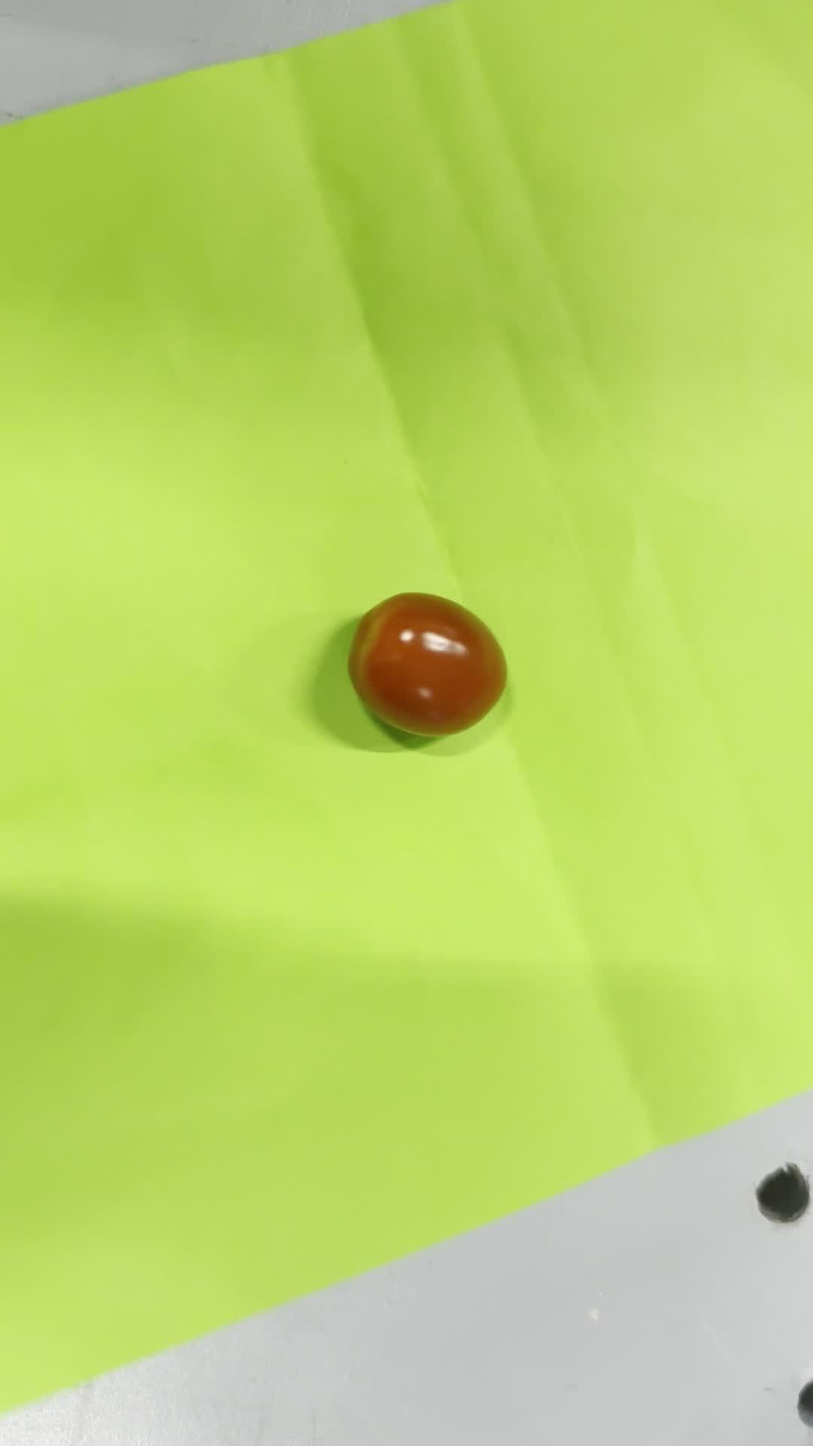red_cherry_tomato: (348, 593, 506, 737)
